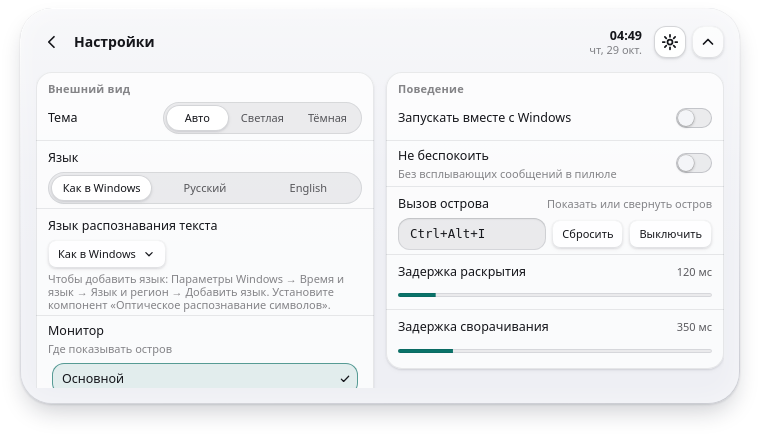
settings view › clicking the summon-hotkey field requests native keyboard focus, and Escape while recording cancels without collapsing
Click the field named "Вызов острова" at point(472, 234), box [398,218,546,250]
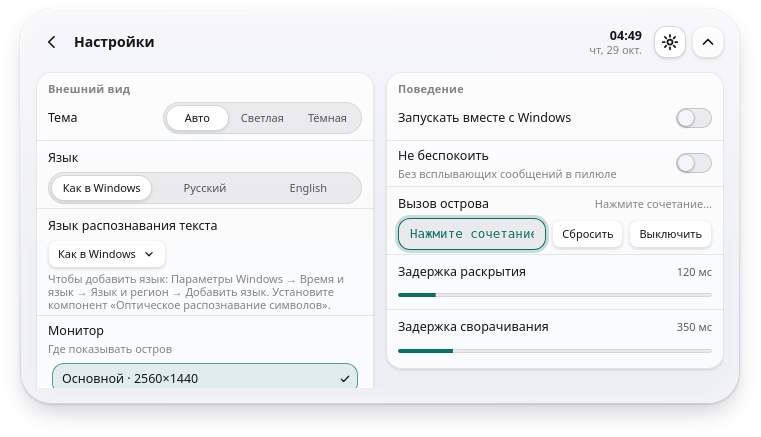
Expected: the field named "Вызов острова" holds "Нажмите сочетание…"
Note: First Escape cancels recording while keeping Settings and the island open.
Press Escape in the field named "Вызов острова", box [398,218,546,250]
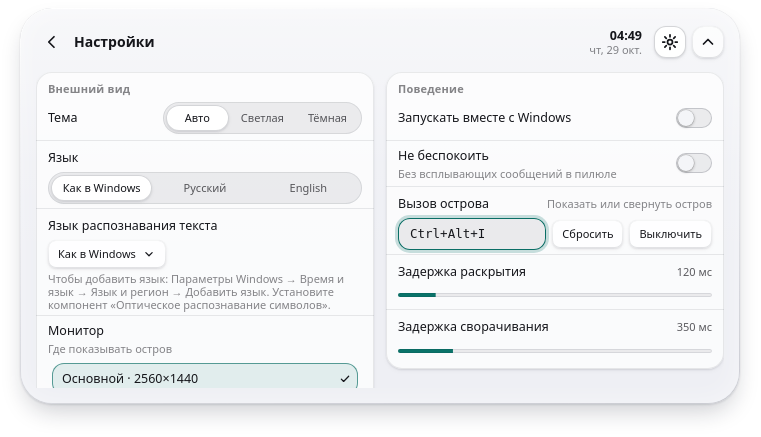
Expected: the field named "Вызов острова" holds "Ctrl+Alt+I", [398,218,546,250]
